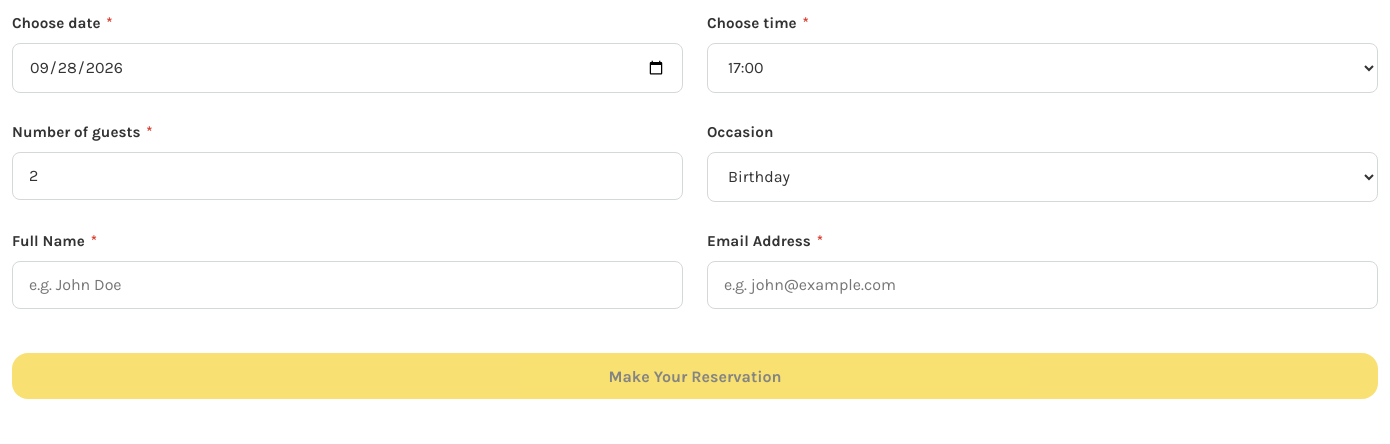
Form validation logic › shows error when required name is empty after blur
Click the field labelled "Full Name *": (348, 285) 12,261 -> 683,309
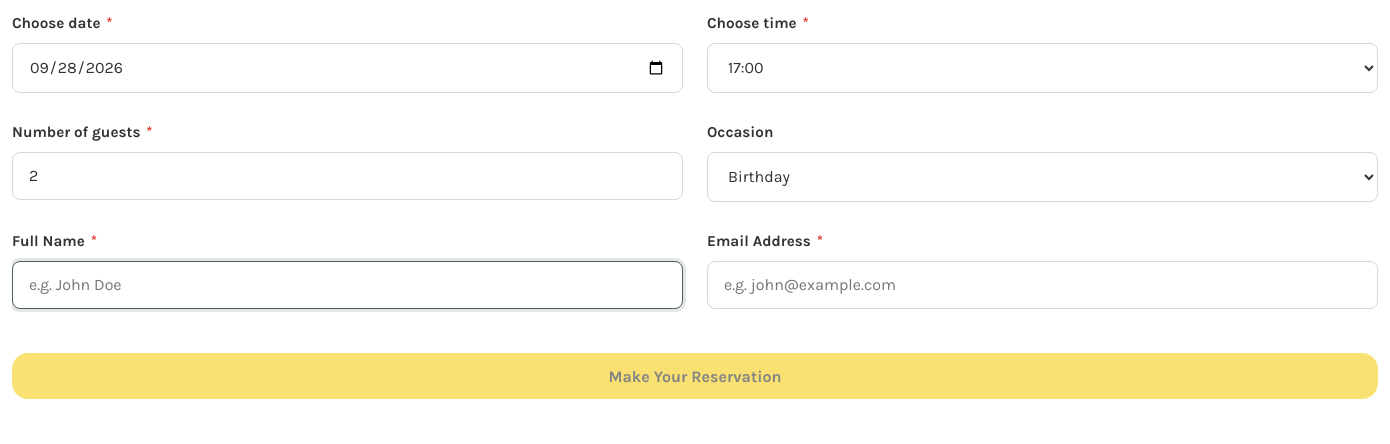
Press Tab
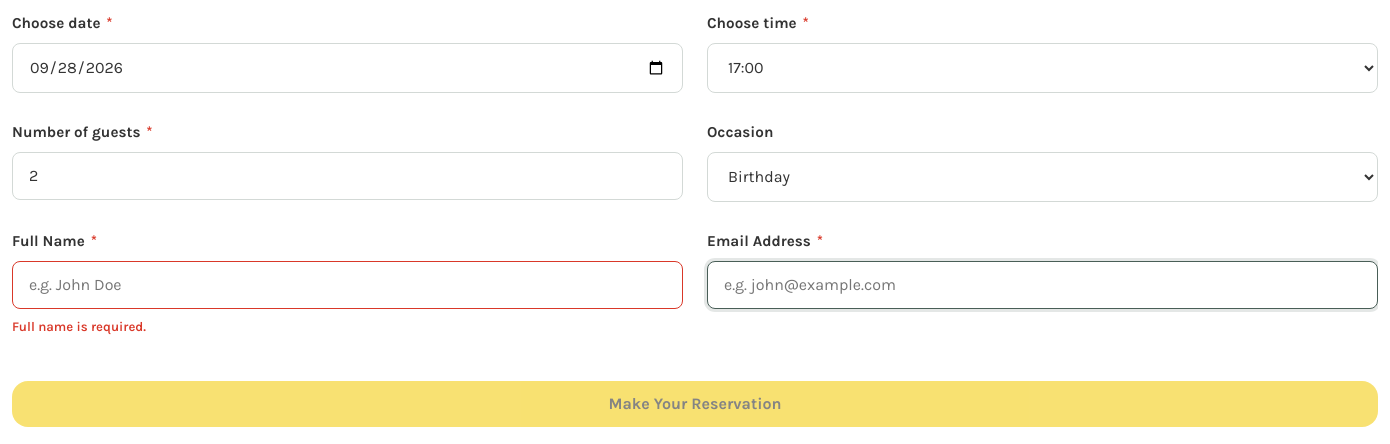
Expected: the text "Full name is required." is shown, 12,319 -> 146,334
